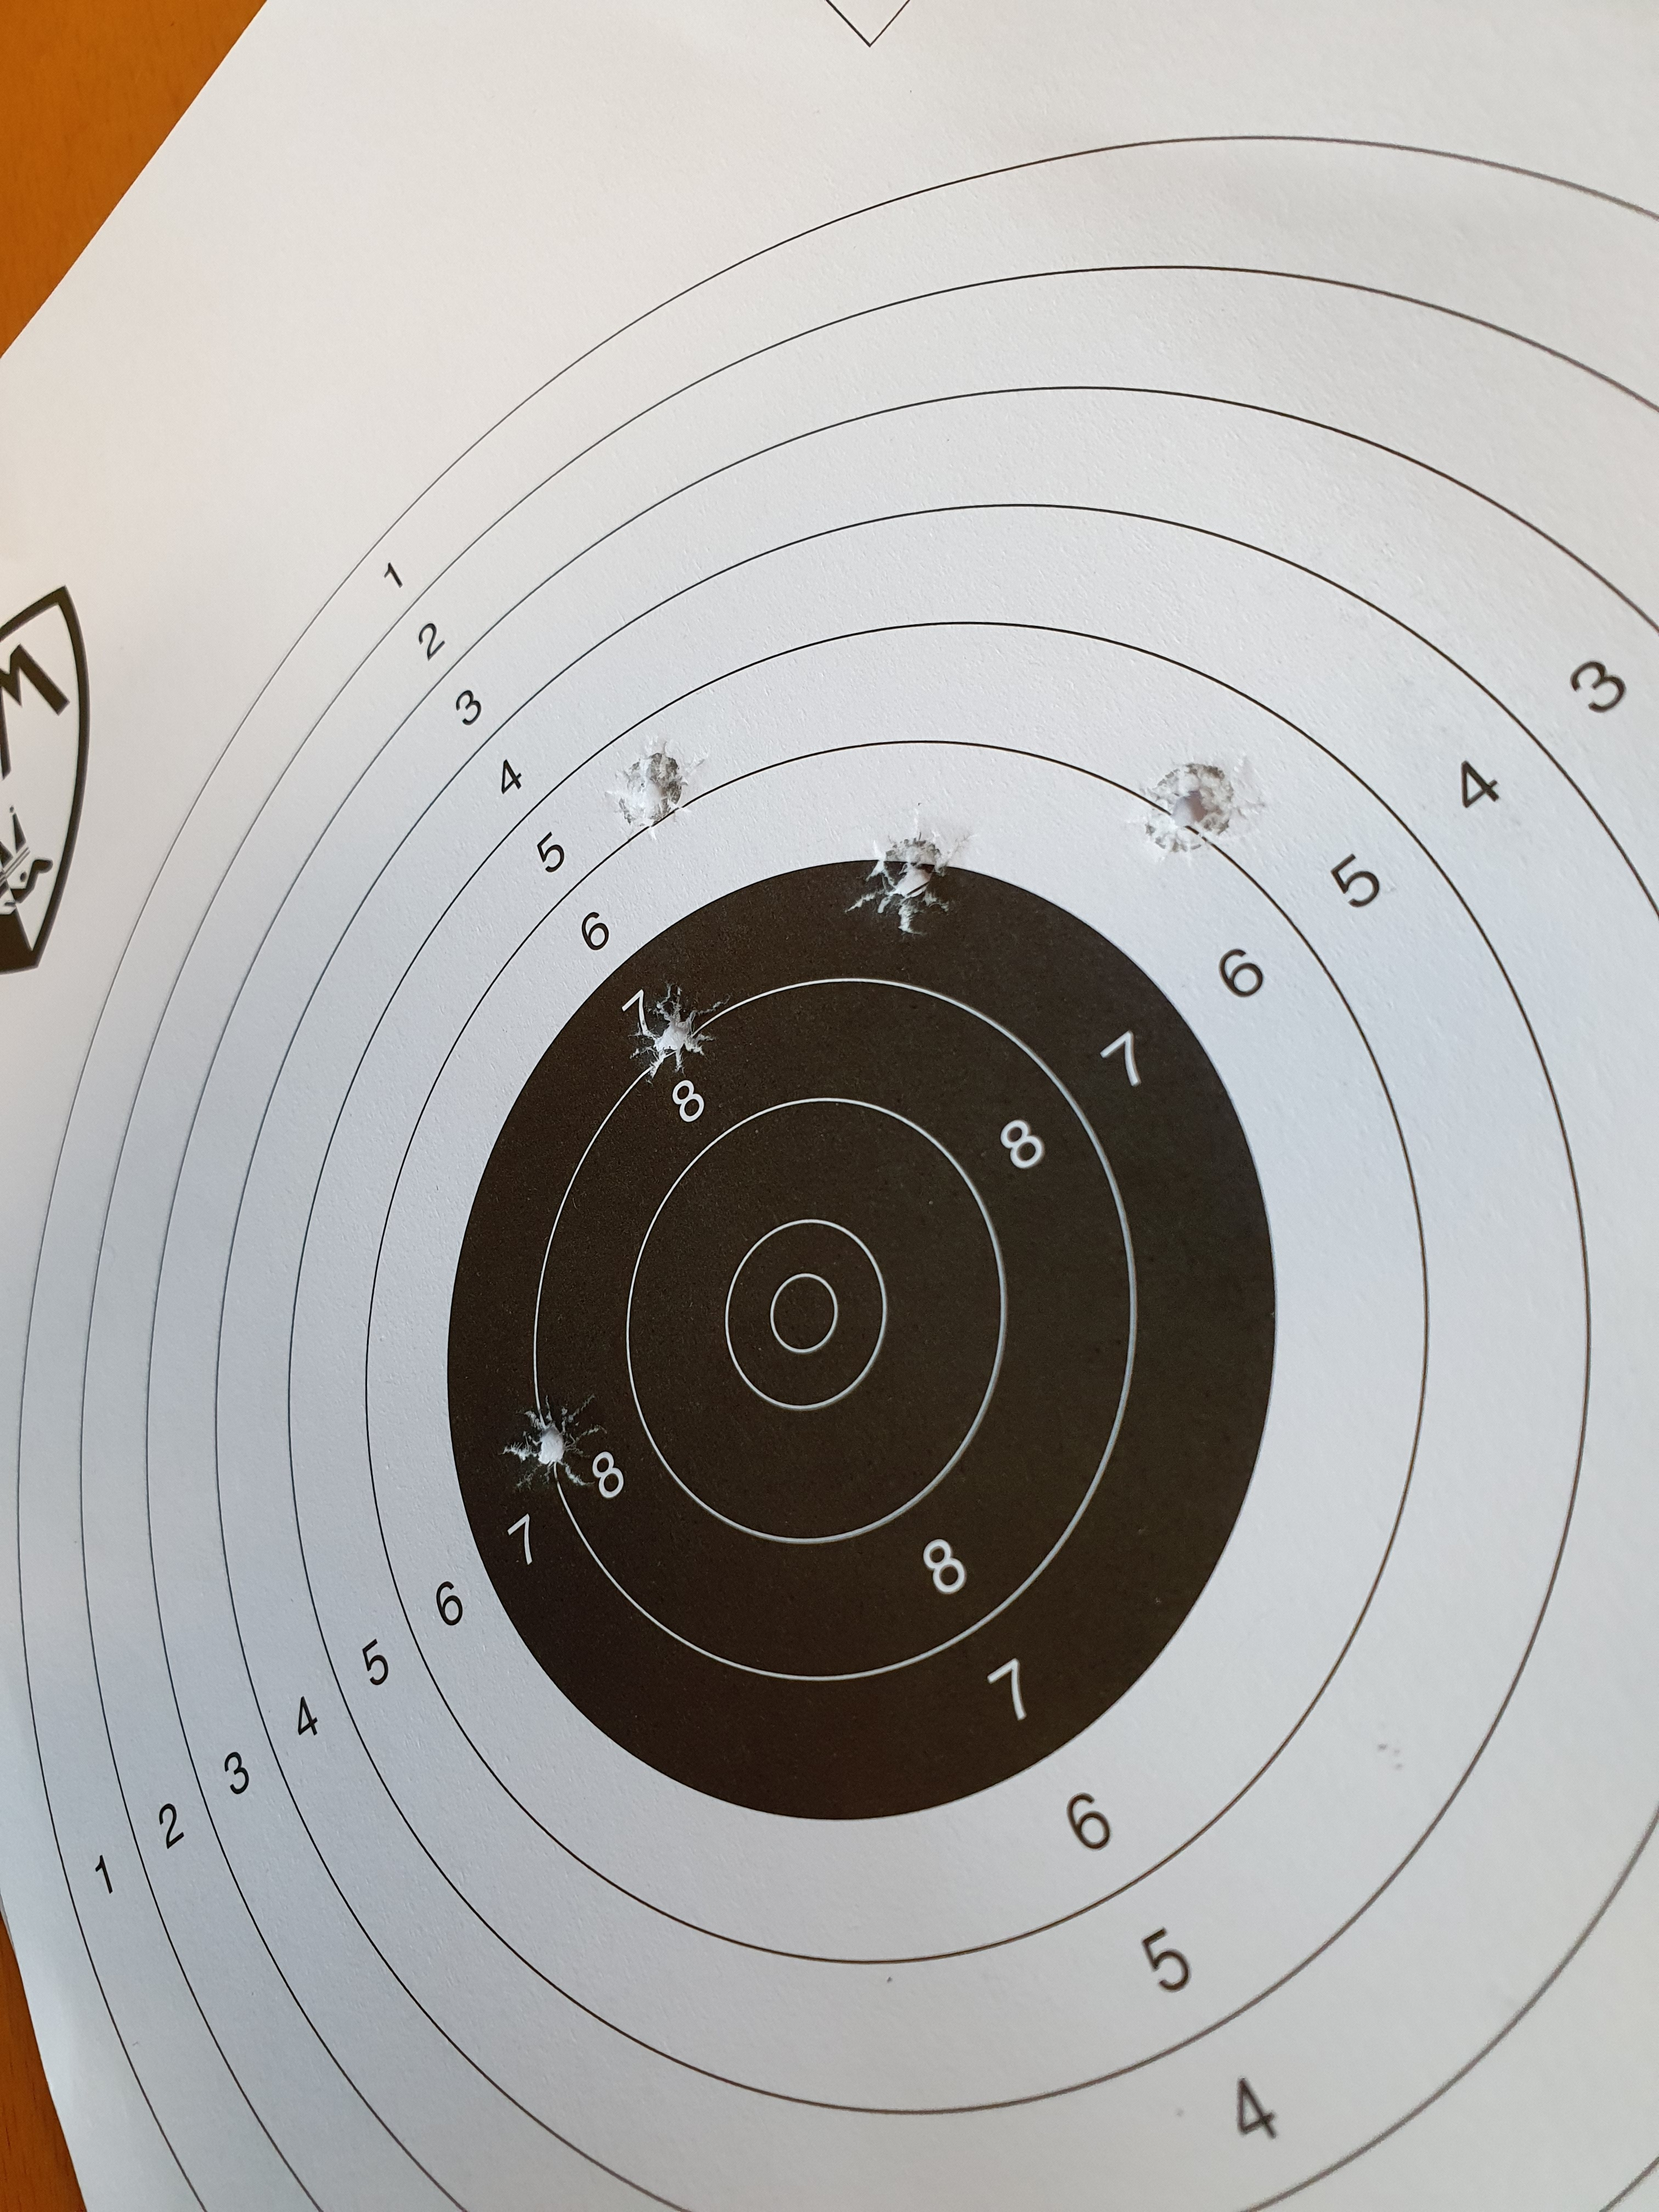out: (14, 136, 1659, 2212), (446, 859, 1276, 1822), (850, 812, 969, 937), (1129, 744, 1258, 859), (498, 1393, 619, 1505), (617, 967, 721, 1085), (596, 737, 708, 836)
target: (725, 1219, 889, 1409)
